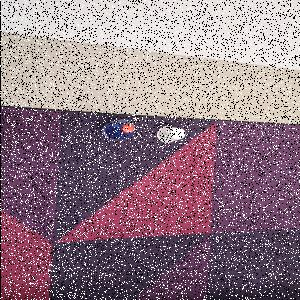Cup: (157, 127, 187, 145)
Plastic-bottle: (102, 120, 138, 142)
